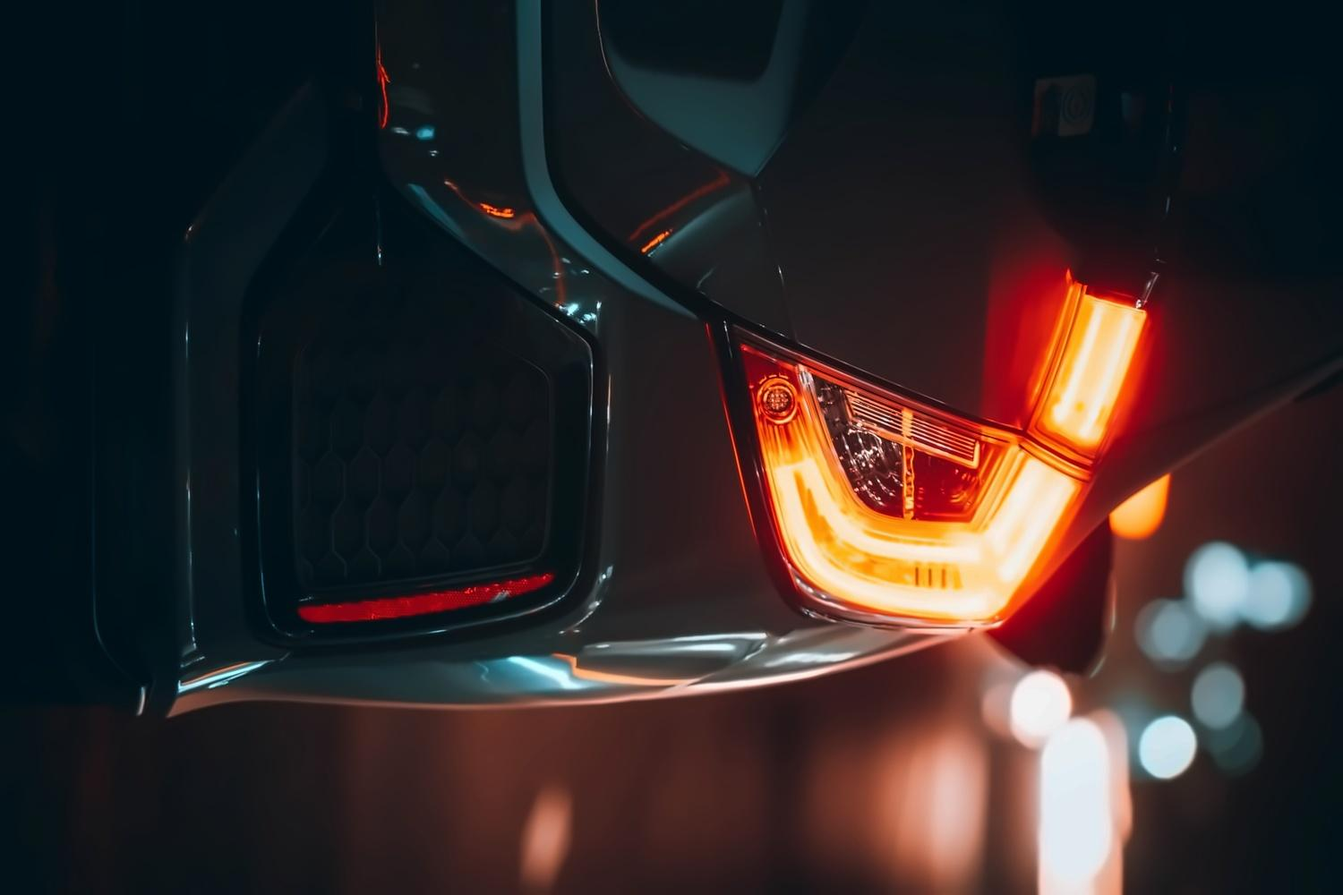Car boot: (512, 0, 1287, 431)
Rear bumper: (105, 0, 860, 769)
Rear light - -R-: (706, 264, 1157, 634)
